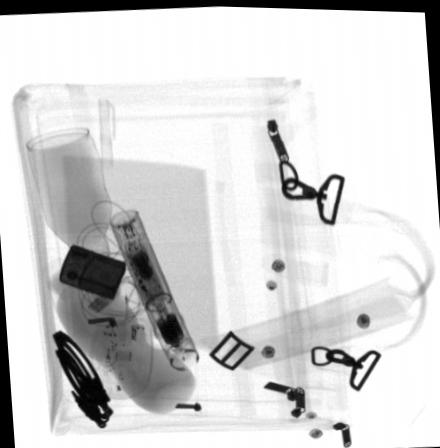Baton: (109, 208, 200, 370)
HandCuffs: (53, 329, 113, 428)
Lighter: (60, 243, 127, 299)
